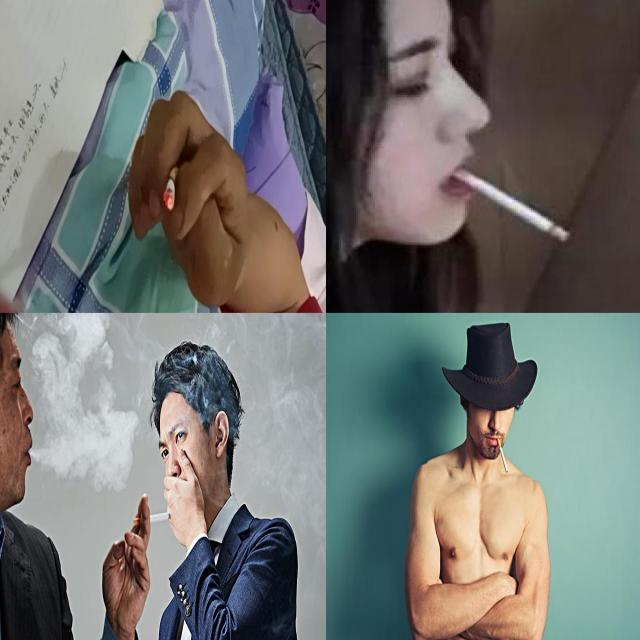cigarette: (431, 158, 584, 248), (163, 166, 180, 211), (133, 512, 173, 527), (496, 436, 509, 473)
